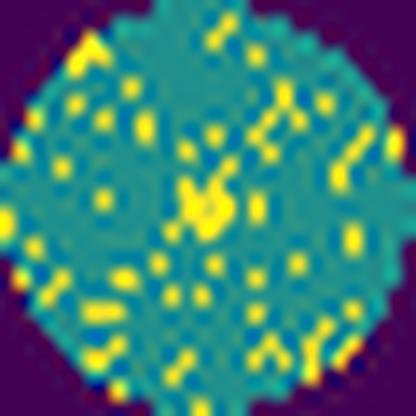Center: (163, 155, 248, 249)
